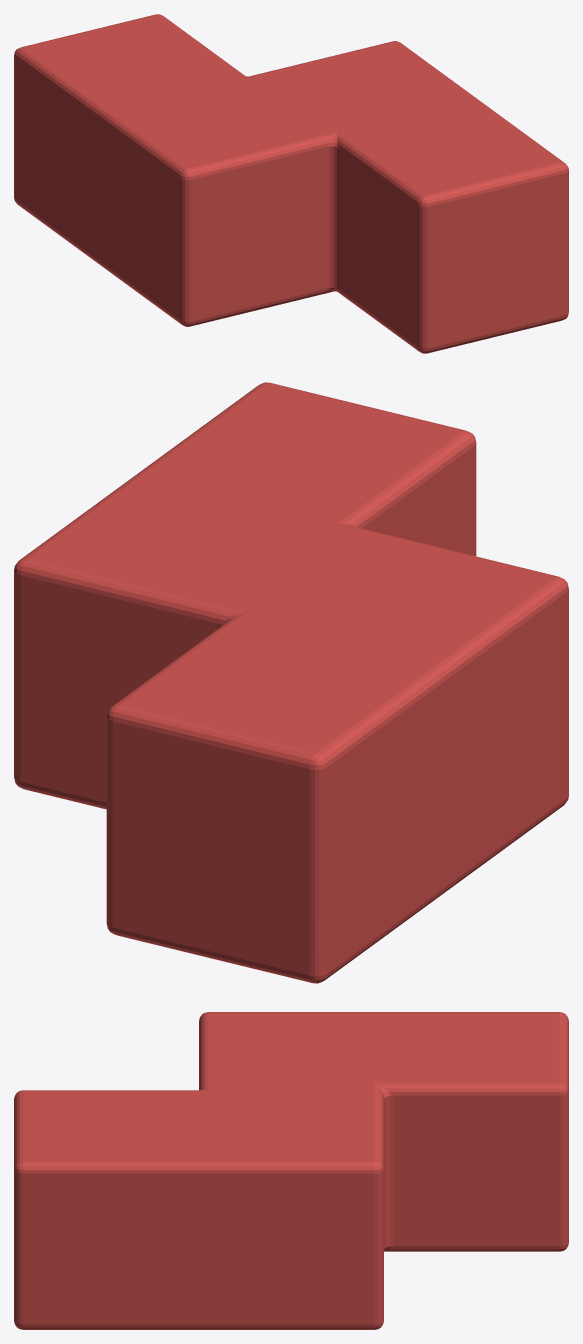
The picture shows the model from 3 angles, top to bottom: view 1: azimuth 30°, elevation 25°; view 2: azimuth 150°, elevation 25°; view 3: azimuth 270°, elevation 25°; orthographic projection. The views are drawn at different scales.
Parts seen in each view (by area): view 1: Z.001; view 2: Z.001; view 3: Z.001.
Part boxes in pixels (x1,y1,x2,y2): Z.001: (14, 14, 568, 353); Z.001: (14, 382, 568, 983); Z.001: (14, 1012, 568, 1329).
Bounding box in the file's own units: 4 × 2 × 6.
1 material, 1 textured.
